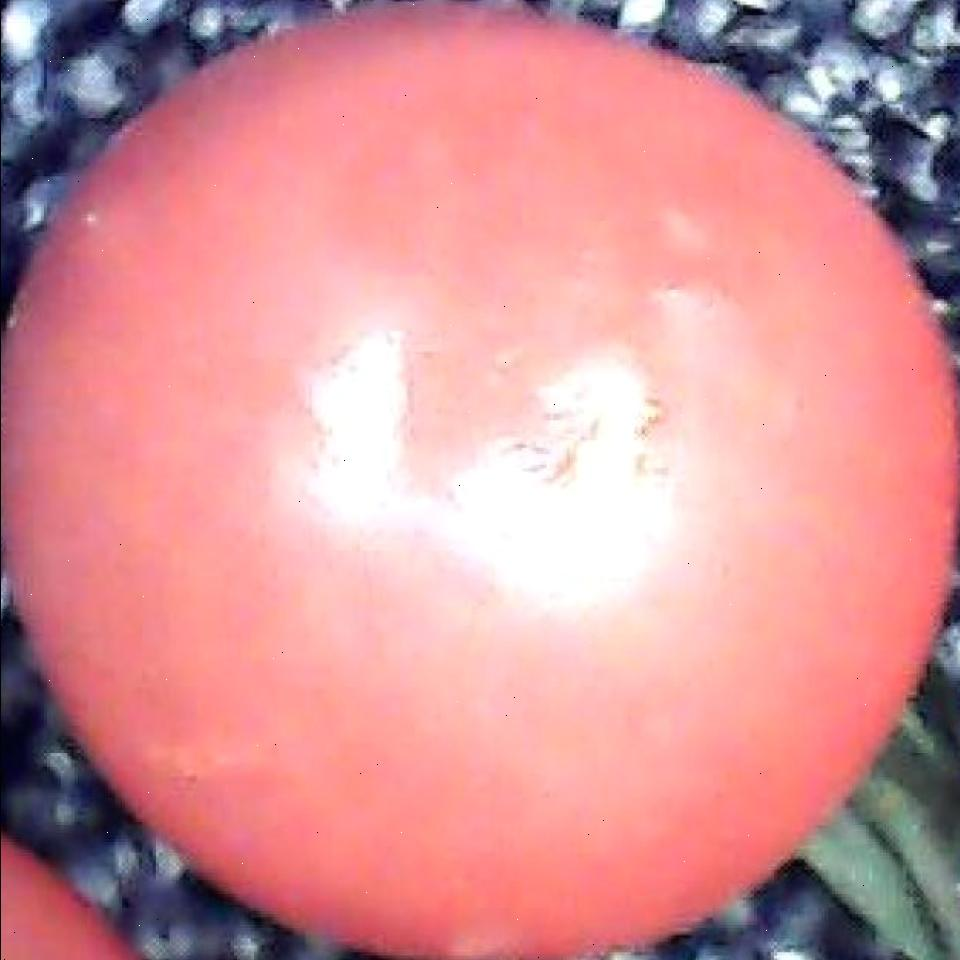Healthy: (3, 60, 920, 960)
